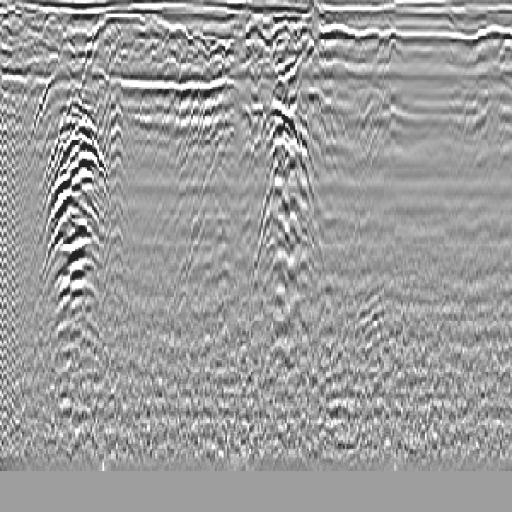metalic: (248, 47, 335, 370)
non-metallic: (32, 20, 133, 401)
